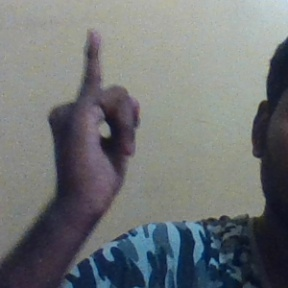I: (45, 26, 145, 202)
